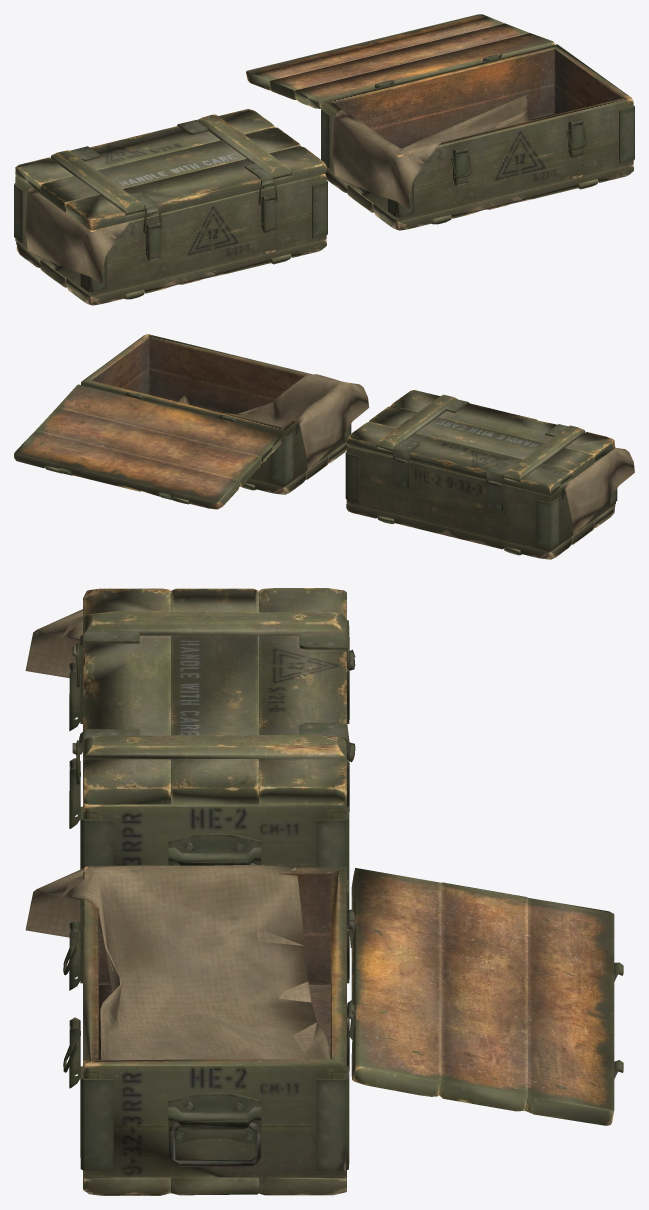
Rendered from old_military_crate.glb.
The picture shows the model from 3 angles, top to bottom: view 1: azimuth 30°, elevation 25°; view 2: azimuth 150°, elevation 25°; view 3: azimuth 270°, elevation 25°; orthographic projection. The views are drawn at different scales.
Visible parts, largest first — view 1: old_military_crate_b, old_military_crate_lid_a, old_military_crate_a, old_military_crate_lid_b, old_military_crate_cloth_b, old_military_crate_cloth_a, old_military_crate_latch_a, old_military_crate_latch_b; view 2: old_military_crate_lid_b, old_military_crate_lid_a, old_military_crate_a, old_military_crate_b, old_military_crate_cloth_b, old_military_crate_cloth_a; view 3: old_military_crate_lid_a, old_military_crate_lid_b, old_military_crate_b, old_military_crate_cloth_b, old_military_crate_a, old_military_crate_cloth_a, old_military_crate_latch_b, old_military_crate_latch_a.
Boxes of the visible parts, x1,y1,x2,y2 form: old_military_crate_b: (321,44,634,230); old_military_crate_lid_a: (15,109,326,230); old_military_crate_a: (14,174,327,305); old_military_crate_lid_b: (246,14,554,108); old_military_crate_cloth_b: (333,95,532,209); old_military_crate_cloth_a: (25,187,129,284); old_military_crate_latch_a: (146,194,276,261); old_military_crate_latch_b: (453,119,583,186); old_military_crate_lid_b: (14,384,282,509); old_military_crate_lid_a: (346,390,615,495); old_military_crate_a: (345,446,617,559); old_military_crate_b: (81,334,351,494); old_military_crate_cloth_b: (176,374,369,470); old_military_crate_cloth_a: (562,447,634,535); old_military_crate_lid_a: (72,588,355,805); old_military_crate_lid_b: (347,868,623,1125); old_military_crate_b: (80,866,355,1195); old_military_crate_cloth_b: (25,865,329,1059); old_military_crate_a: (80,620,355,884); old_military_crate_cloth_a: (25,609,82,678); old_military_crate_latch_b: (69,920,80,1088); old_military_crate_latch_a: (69,660,80,828).
Size of the model in its own units: 1.81 by 0.3009 by 0.9744.
1 material, 1 textured.
